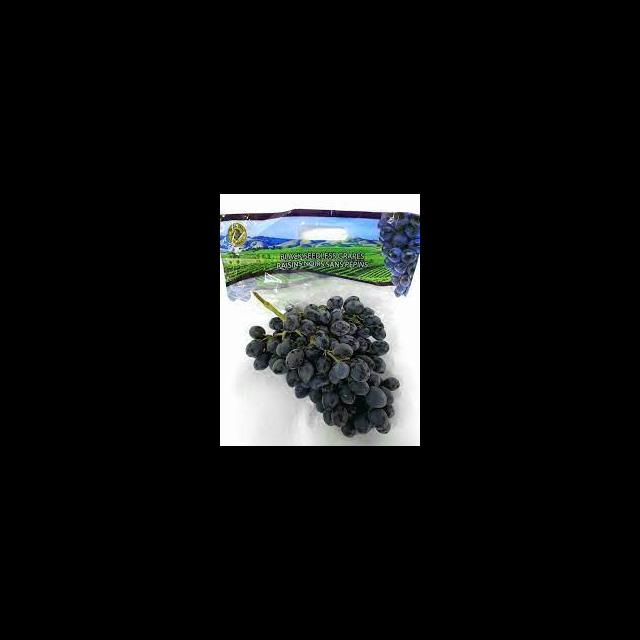grape: (245, 295, 399, 437), (377, 211, 419, 297)
